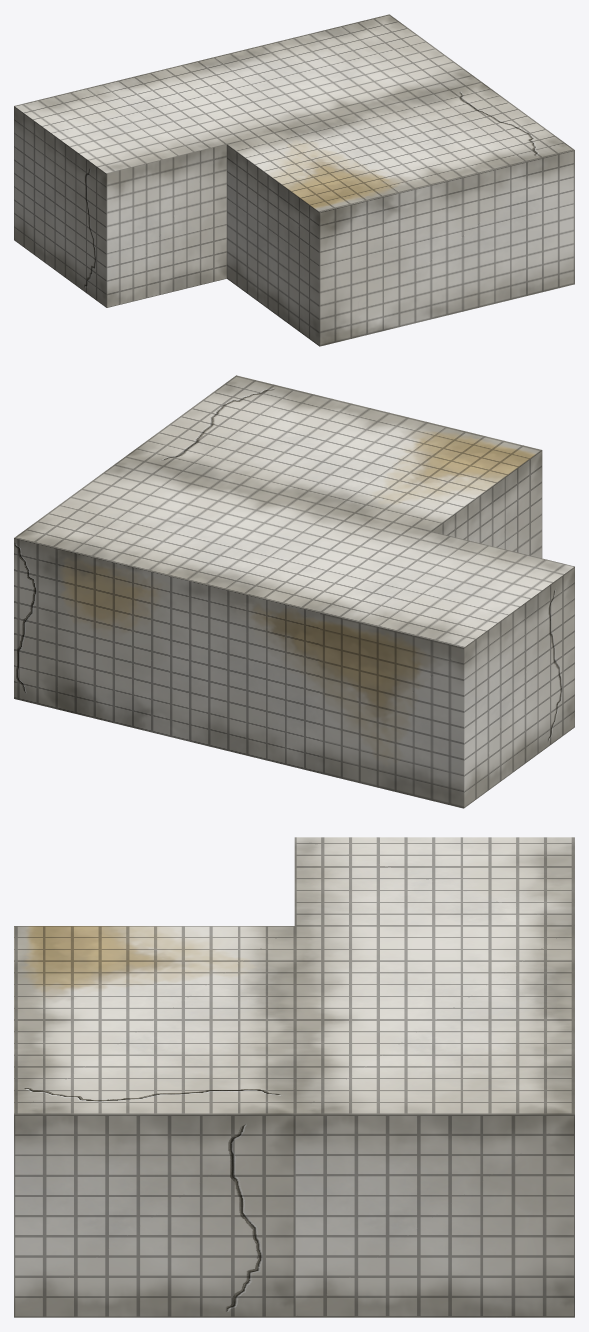
File: CasaLGrande 1.fbx
The picture shows the model from 3 angles, top to bottom: view 1: azimuth 30°, elevation 25°; view 2: azimuth 150°, elevation 25°; view 3: azimuth 270°, elevation 25°; orthographic projection. The views are drawn at different scales.
Parts seen in each view (by area): view 1: CasaLGrande; view 2: CasaLGrande; view 3: CasaLGrande.
Boxes of the visible parts, x1=… form: CasaLGrande: x1=14, y1=14, x2=574, y2=346; CasaLGrande: x1=14, y1=375, x2=574, y2=808; CasaLGrande: x1=14, y1=837, x2=574, y2=1317.
Bounding box in the file's own units: 2017 × 689 × 1726.
